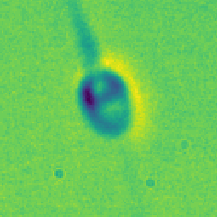normal: (58, 1, 114, 58)
